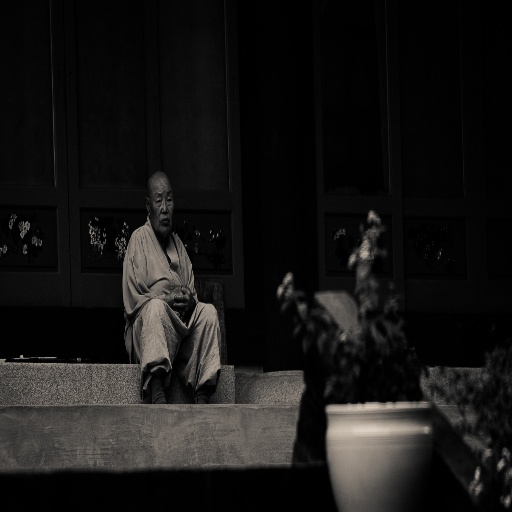hand: (167, 283, 193, 311)
